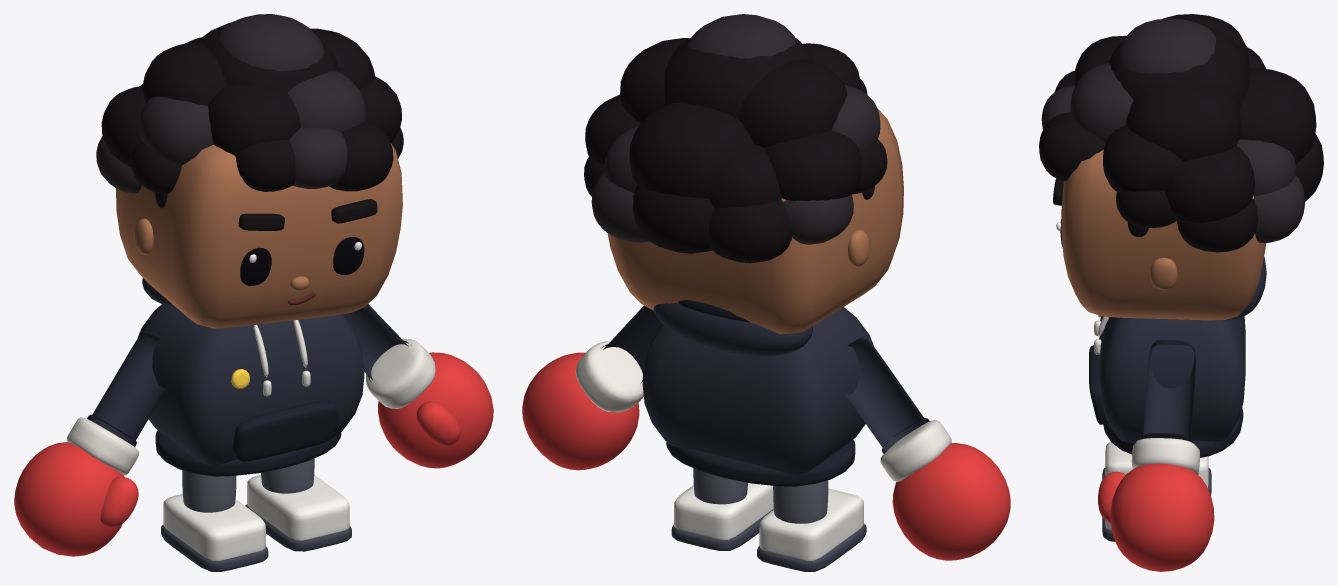
File: nik.glb
3 renders of one model, left to right at view 1: azimuth 30°, elevation 25°; view 2: azimuth 150°, elevation 25°; view 3: azimuth 270°, elevation 25°, orthographic. The views are drawn at different scales.
Visible parts, largest first — view 1: NK_Head, NK_Torso, NK_Hand_R, NK_Hand_L, NK_Foot_R, NK_Foot_L, NK_Arm_R, NK_Arm_L, NK_Leg_R, NK_Leg_L; view 2: NK_Head, NK_Torso, NK_Hand_R, NK_Hand_L, NK_Foot_R, NK_Foot_L, NK_Arm_R, NK_Leg_R, NK_Arm_L, NK_Leg_L; view 3: NK_Head, NK_Torso, NK_Hand_L, NK_Arm_L, NK_Foot_R.
Part boxes in pixels (box(x1,y1,x2,y2)): NK_Head: box(96, 14, 403, 328); NK_Torso: box(137, 278, 364, 476); NK_Hand_R: box(14, 417, 139, 556); NK_Hand_L: box(366, 338, 493, 468); NK_Foot_R: box(161, 494, 268, 571); NK_Foot_L: box(245, 474, 351, 551); NK_Arm_R: box(87, 330, 167, 446); NK_Arm_L: box(342, 304, 411, 382); NK_Leg_R: box(182, 470, 236, 512); NK_Leg_L: box(261, 458, 314, 493); NK_Head: box(584, 14, 903, 334); NK_Torso: box(642, 300, 873, 486); NK_Hand_R: box(880, 419, 1010, 560); NK_Hand_L: box(522, 341, 643, 470); NK_Foot_R: box(757, 488, 866, 571); NK_Foot_L: box(671, 483, 773, 550); NK_Arm_R: box(844, 337, 929, 453); NK_Leg_R: box(773, 480, 828, 523); NK_Arm_L: box(600, 305, 662, 383); NK_Leg_L: box(693, 468, 747, 504); NK_Head: box(1039, 14, 1323, 320); NK_Torso: box(1089, 256, 1266, 457); NK_Hand_L: box(1098, 438, 1214, 571); NK_Arm_L: box(1141, 339, 1196, 442); NK_Foot_R: box(1102, 441, 1211, 495).
Bounding box in the file's own units: 1.66 × 1.73 × 0.9101.
